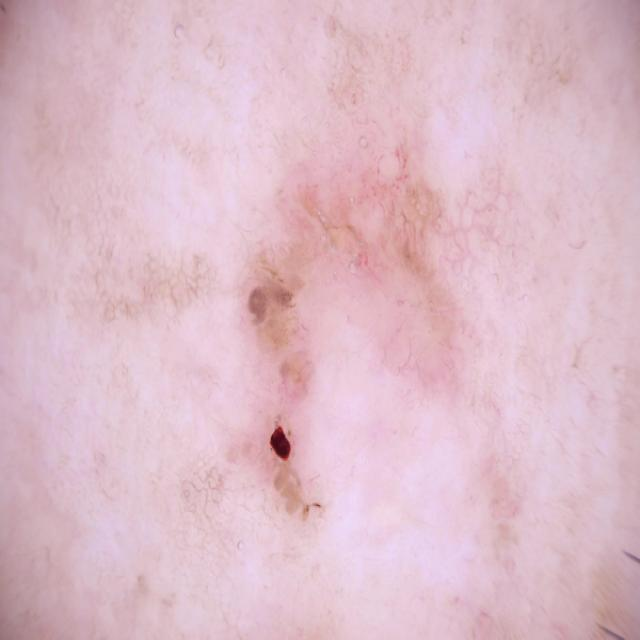Skin-Cancer Basal cell carcinoma: (14, 32, 579, 640)
